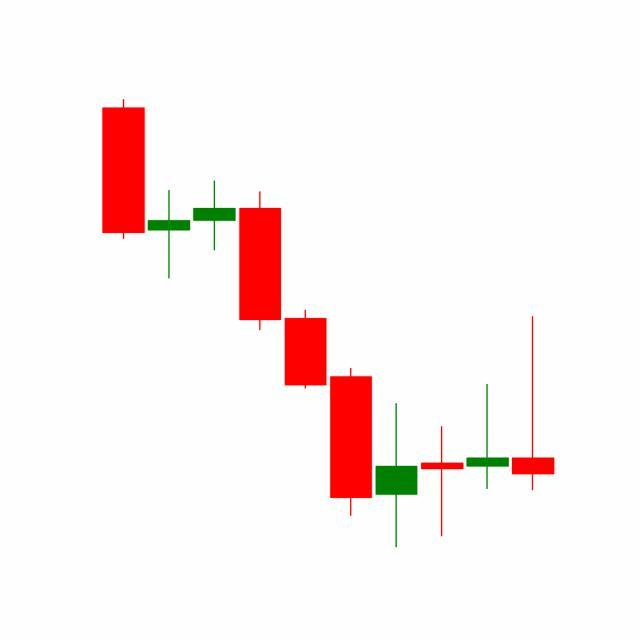Hikkake Pattern: (283, 307, 512, 549)
